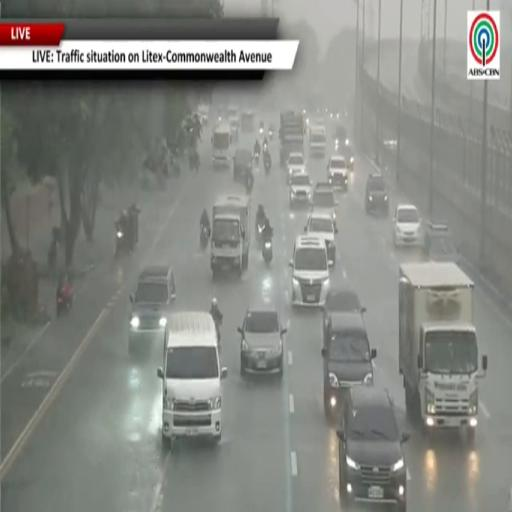car: (337, 386, 409, 511), (322, 310, 376, 417), (129, 266, 176, 351), (238, 308, 287, 376), (289, 235, 329, 307), (324, 286, 365, 335), (304, 213, 337, 266), (424, 222, 459, 264), (393, 204, 423, 247), (312, 183, 337, 226), (365, 173, 389, 215), (289, 172, 312, 207), (327, 155, 347, 191), (334, 138, 354, 171), (233, 149, 253, 182), (286, 153, 305, 183), (341, 140, 354, 171), (241, 110, 254, 133), (229, 116, 240, 143), (334, 123, 347, 145), (198, 104, 209, 125)
motorcycle: (57, 291, 73, 316), (48, 238, 58, 275), (115, 227, 126, 257), (262, 239, 272, 264), (256, 219, 266, 244), (215, 315, 222, 350), (200, 227, 209, 250), (264, 157, 271, 174), (246, 179, 253, 195), (254, 151, 259, 164), (263, 142, 267, 155), (269, 130, 273, 139)
truck: (399, 262, 487, 439), (211, 194, 250, 276), (279, 111, 304, 168), (212, 122, 232, 168), (309, 125, 326, 156)
